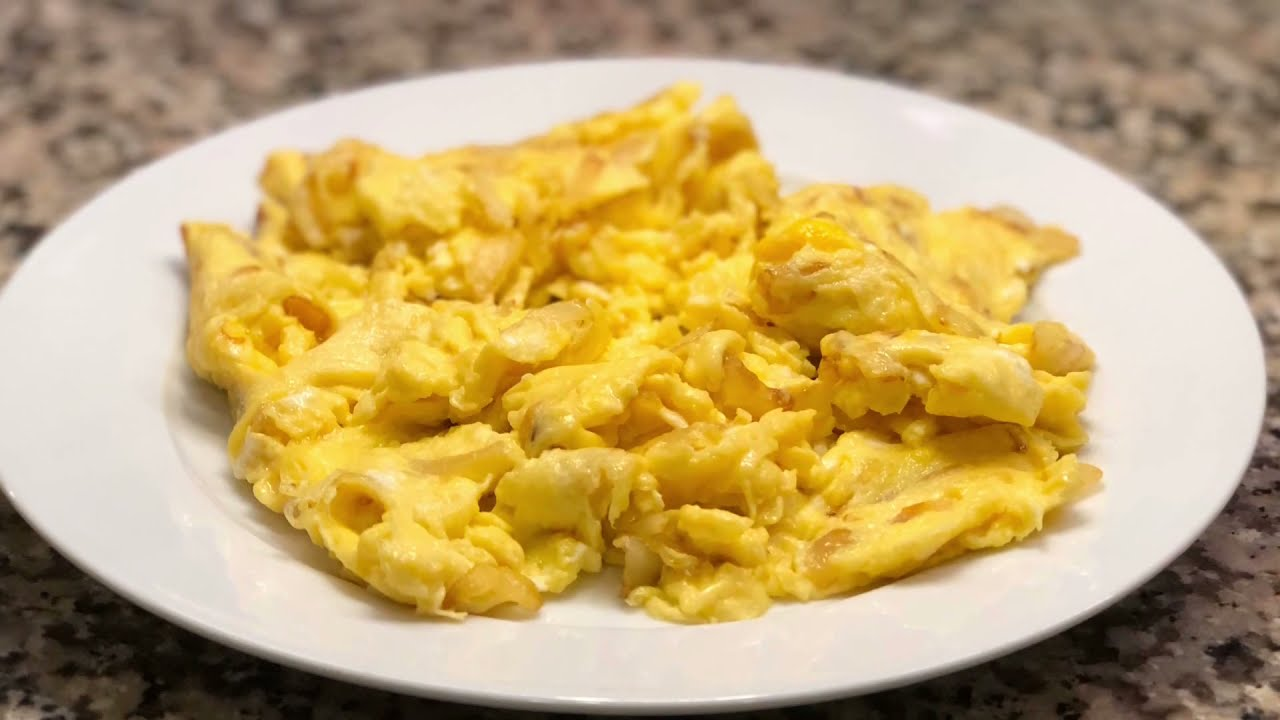scrambled-egg: (180, 79, 1104, 626)
